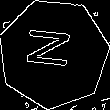N_E: (26, 31, 81, 76)
